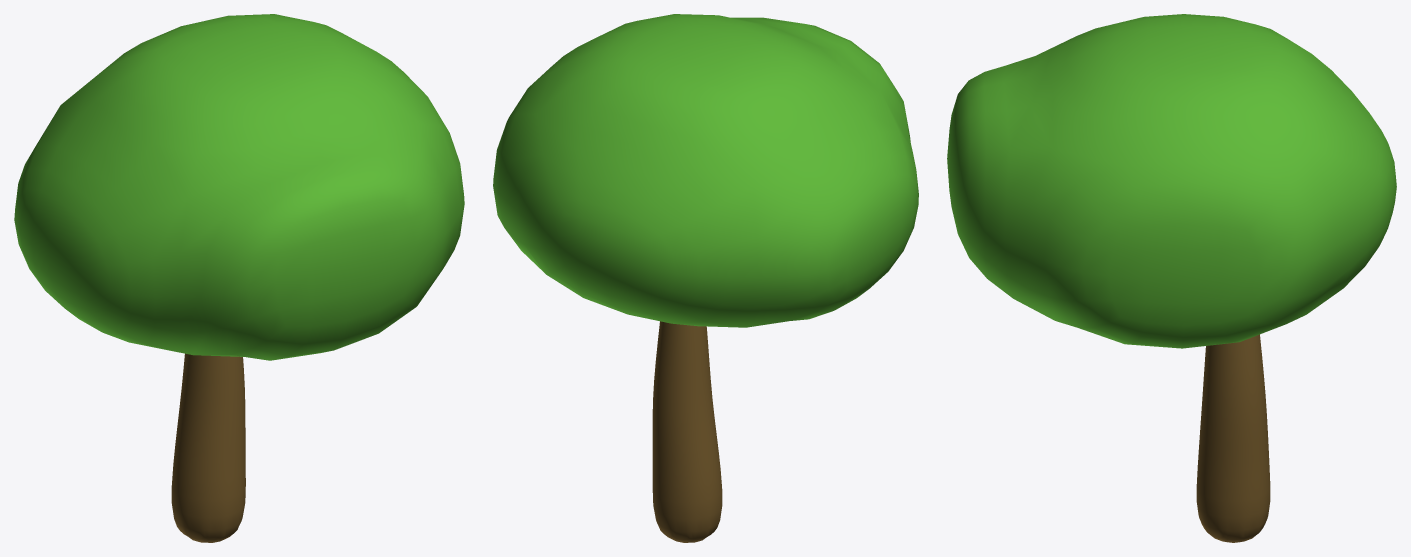
File: pohon2.glb
The picture shows the model from 3 angles, left to right: view 1: azimuth 30°, elevation 25°; view 2: azimuth 150°, elevation 25°; view 3: azimuth 270°, elevation 25°; orthographic projection. The views are drawn at different scales.
Visible parts, largest first — view 1: Cube.810; view 2: Cube.810; view 3: Cube.810.
Part boxes in pixels (x1,y1,x2,y2): Cube.810: [14, 14, 464, 542]; Cube.810: [493, 14, 918, 542]; Cube.810: [947, 14, 1396, 542].
Bounding box in the file's own units: 5.95 × 7.65 × 6.2.
